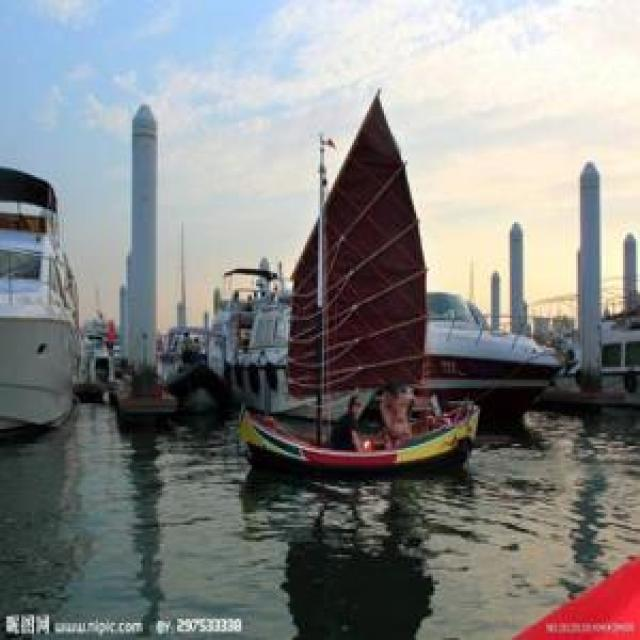sailboat: (238, 83, 474, 464)
